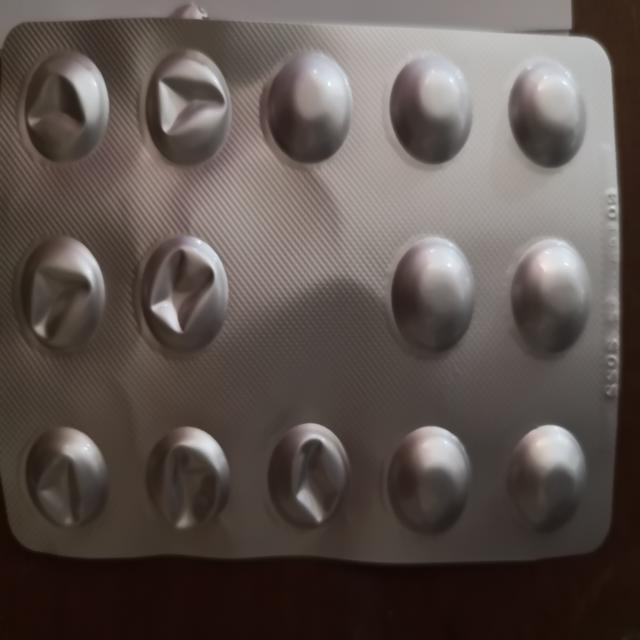Empty: (132, 229, 231, 363), (14, 234, 113, 362), (140, 412, 232, 542), (140, 40, 232, 169), (19, 44, 111, 169), (21, 417, 113, 539), (261, 414, 354, 532)
Pill: (260, 39, 360, 172), (382, 227, 478, 358), (382, 50, 478, 176), (502, 419, 594, 543), (386, 419, 472, 543), (509, 233, 594, 357), (502, 50, 590, 169)
